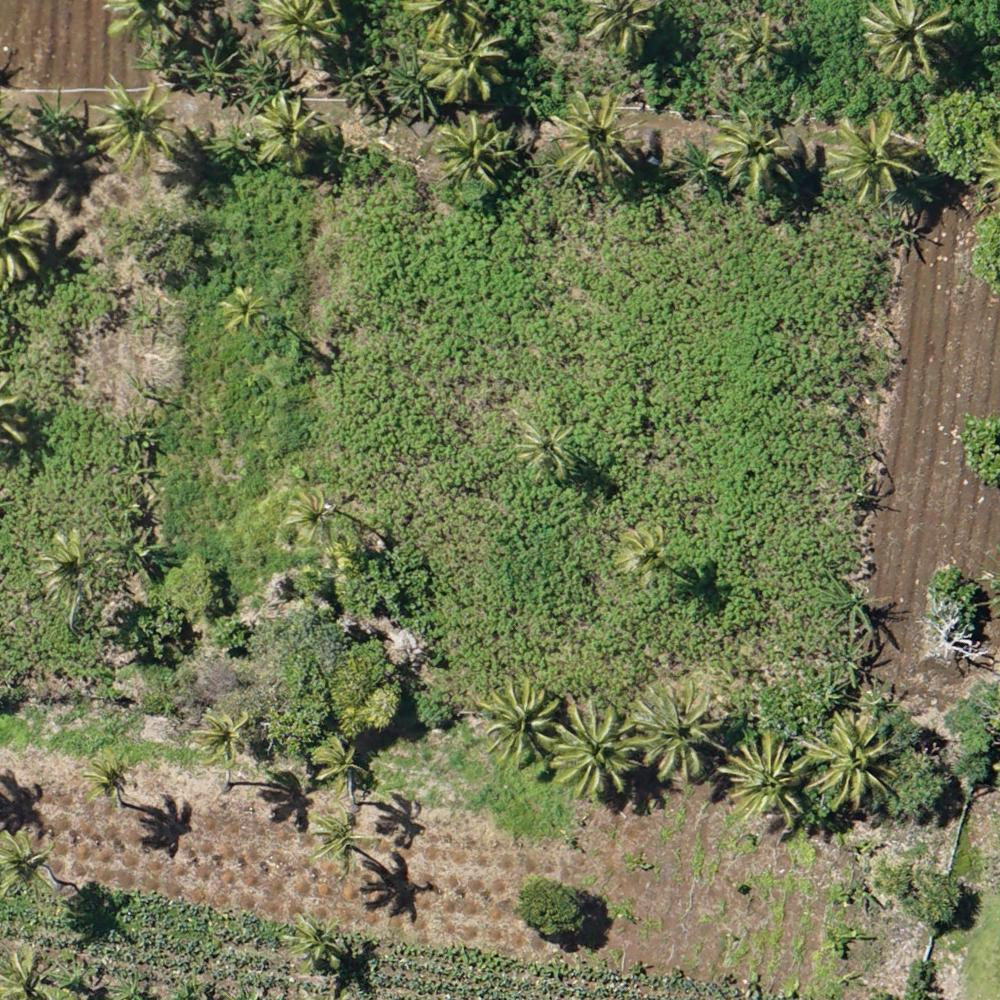Palm: (801, 708, 893, 805), (551, 698, 643, 789), (635, 683, 726, 775), (552, 94, 648, 175), (706, 114, 802, 193), (830, 111, 916, 199), (476, 680, 563, 762), (723, 732, 804, 819), (96, 75, 178, 159), (419, 33, 512, 107), (868, 2, 949, 78), (434, 115, 514, 188), (252, 1, 339, 64), (247, 97, 323, 163), (31, 531, 97, 602), (187, 708, 253, 773), (313, 731, 378, 796), (514, 414, 574, 481), (1, 831, 62, 895), (616, 526, 682, 582), (309, 812, 370, 871), (728, 14, 789, 65), (78, 749, 134, 804), (286, 912, 341, 967), (287, 486, 338, 539), (218, 289, 263, 334)
